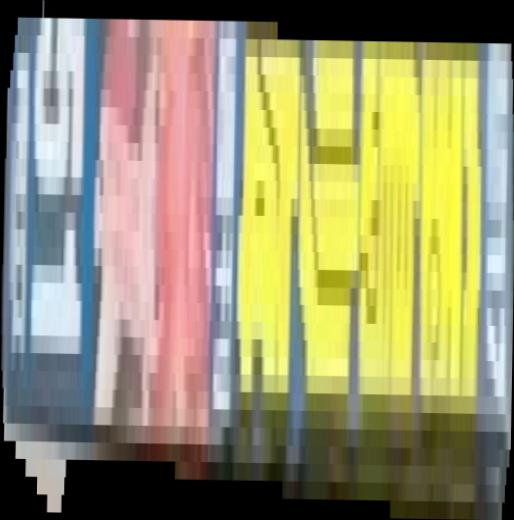flat: (1, 1, 514, 520)
